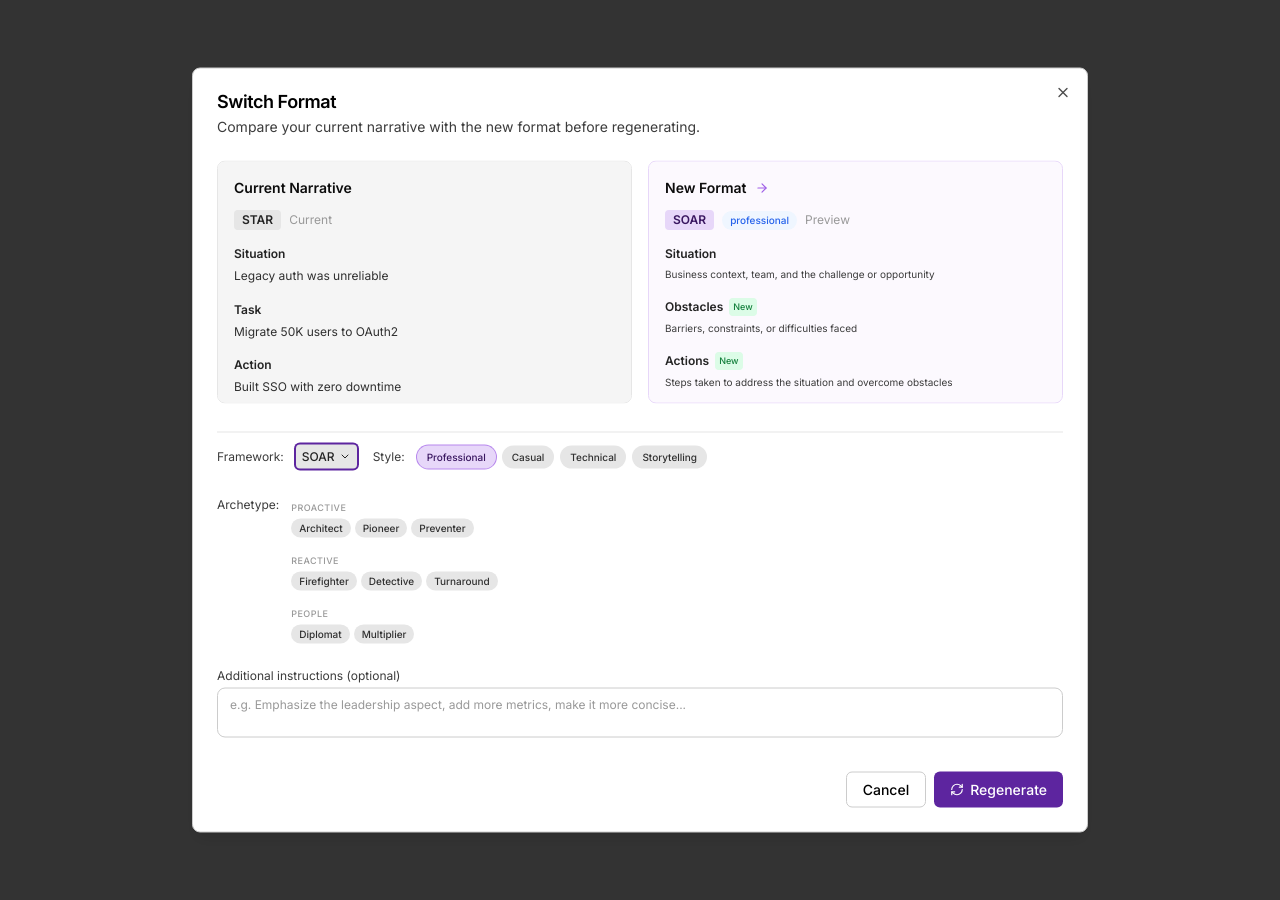
Test: FormatSwitchModal › Error handling › shows fallback error message when error has no message
Click the button "Regenerate" at point(999, 790), box 934,772 -> 1063,808
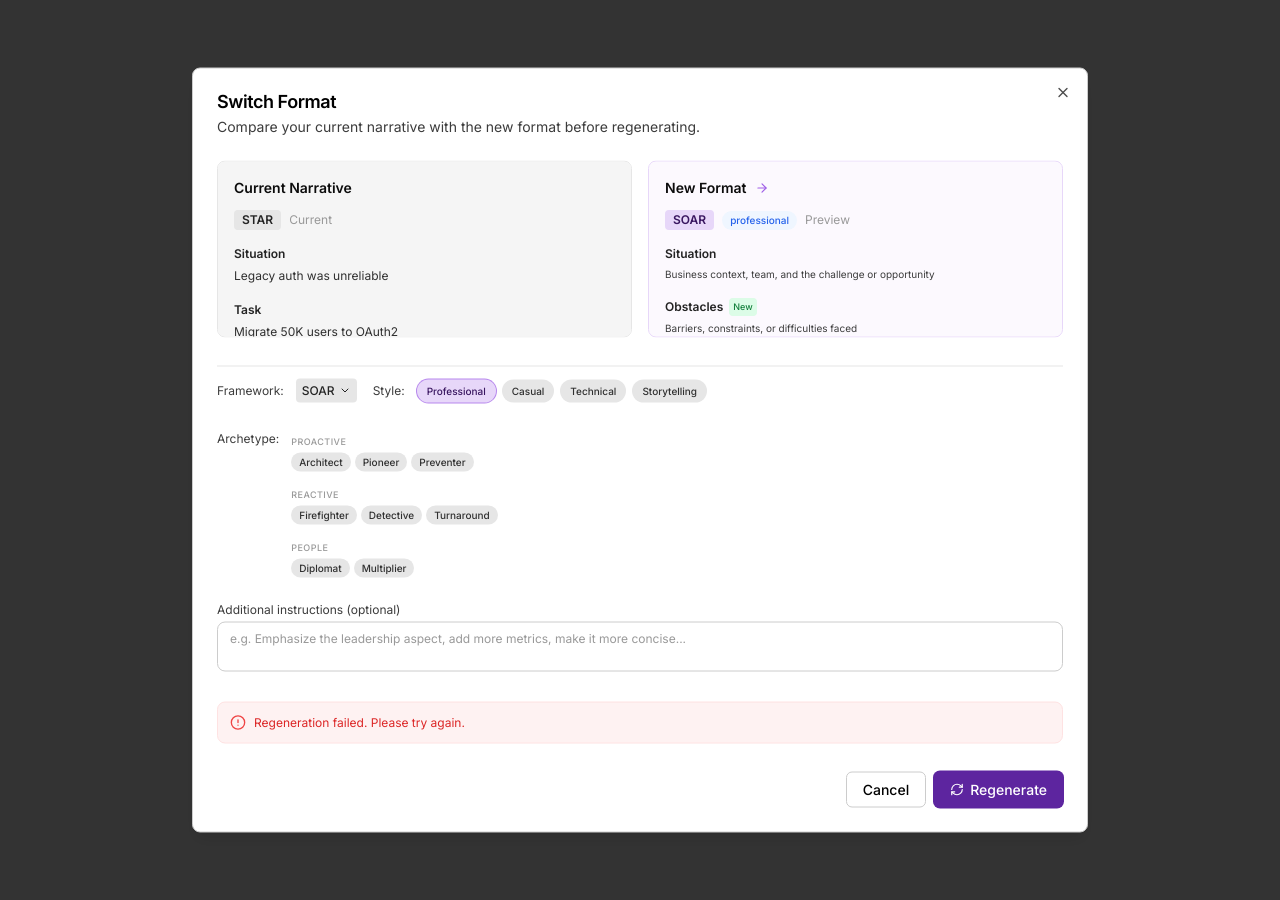
Check: the text "Regeneration failed. Please try again." is shown, box 254,714 -> 465,730
